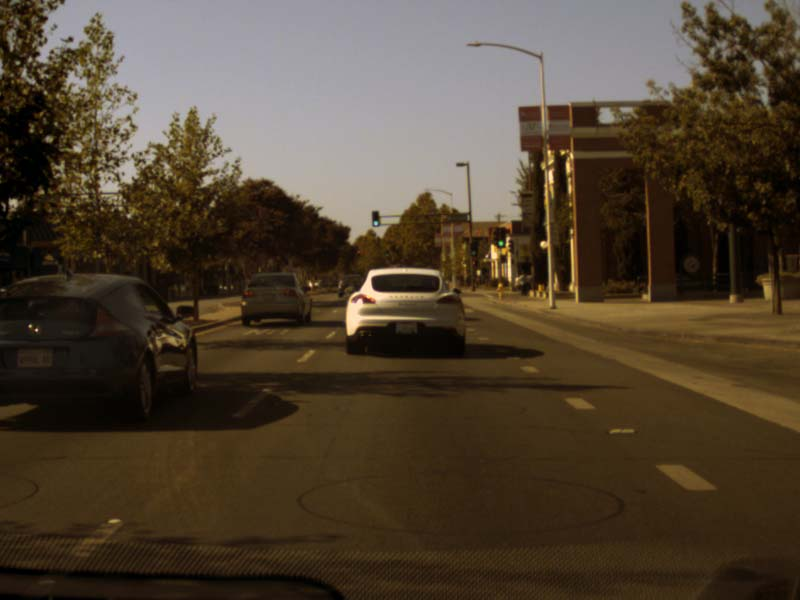Green: (498, 227, 505, 248), (372, 210, 379, 226), (471, 250, 477, 255), (385, 251, 389, 257)
Red: (471, 260, 475, 265), (356, 250, 359, 253)
